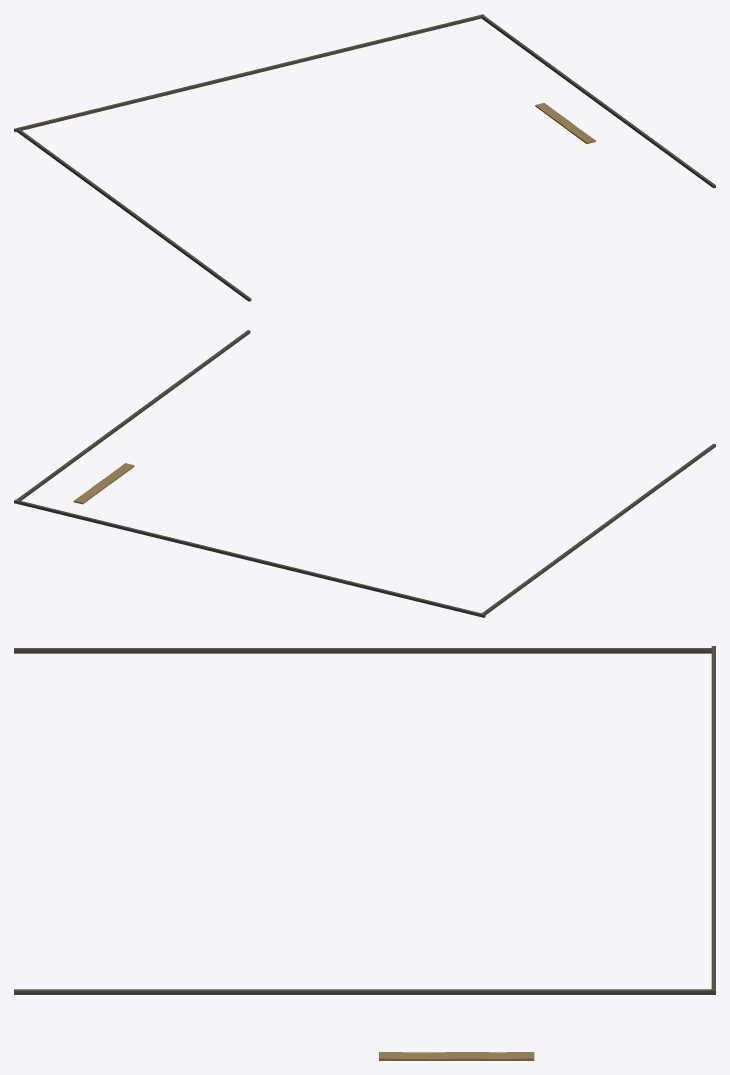
Rendered from Window_misc.fbx.
3 views of the same model, one above another, from view 1: azimuth 30°, elevation 25°; view 2: azimuth 150°, elevation 25°; view 3: azimuth 270°, elevation 25° (orthographic). The views are drawn at different scales.
Visible parts, largest first — view 1: Cube.002, Cube.001, Cube, Window_aisle; view 2: Cube.002, Cube, Cube.001, Window_aisle; view 3: Cube, Cube.001, Cube.002, Window_aisle.
Boxes of the visible parts, <box> form: Cube.002: <box>14,14,484,132</box>; Cube.001: <box>17,129,251,301</box>; Cube: <box>482,15,715,188</box>; Window_aisle: <box>535,103,595,143</box>; Cube.002: <box>14,499,485,617</box>; Cube: <box>16,330,250,500</box>; Cube.001: <box>482,443,715,614</box>; Window_aisle: <box>73,463,134,504</box>; Cube: <box>14,989,711,994</box>; Cube.001: <box>14,648,711,653</box>; Cube.002: <box>711,646,715,994</box>; Window_aisle: <box>379,1052,534,1060</box>.
Bounding box in the file's own units: 4851 × 455 × 4166.
